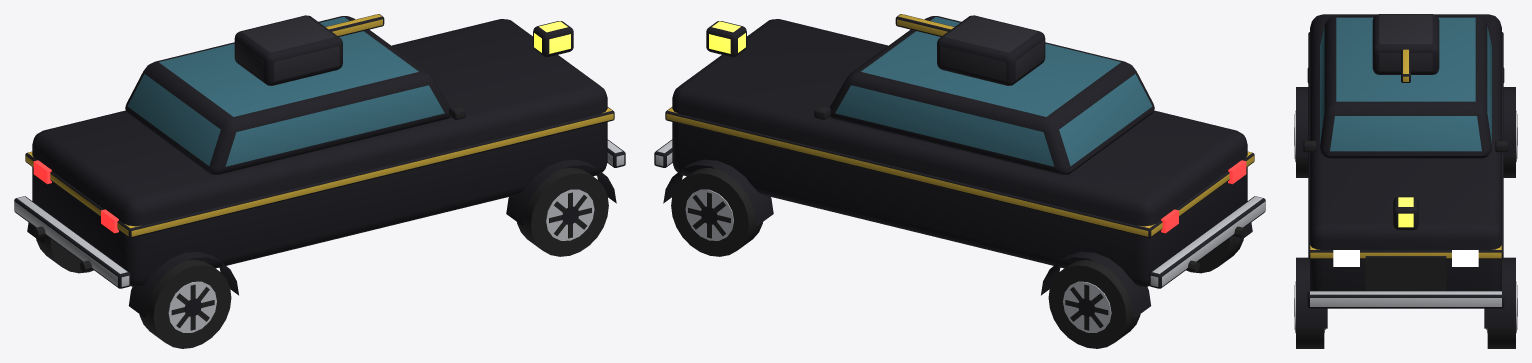
Rendered from kingpin.glb.
3 renders of one model, left to right at view 1: azimuth 30°, elevation 25°; view 2: azimuth 150°, elevation 25°; view 3: azimuth 270°, elevation 25°, orthographic. The views are drawn at different scales.
Parts seen in each view (by area): view 1: body, wheel_FR, wheel_RR, wheel_RL; view 2: body, wheel_FL, wheel_RL, wheel_RR; view 3: body, wheel_FL, wheel_FR, wheel_RL, wheel_RR.
Part boxes in pixels (box(x1,y1,x2,y2)): body: box(14, 14, 625, 318); wheel_FR: box(517, 167, 608, 256); wheel_RR: box(139, 260, 231, 348); wheel_RL: box(36, 236, 93, 273); body: box(654, 14, 1265, 318); wheel_FL: box(671, 167, 762, 256); wheel_RL: box(1048, 260, 1140, 348); wheel_RR: box(1186, 236, 1243, 273); body: box(1296, 14, 1515, 328); wheel_FL: box(1486, 281, 1517, 348); wheel_FR: box(1294, 281, 1325, 348); wheel_RL: box(1503, 110, 1517, 177); wheel_RR: box(1294, 110, 1308, 177).
Size of the model in its own units: 6.61 by 2.85 by 2.68.
